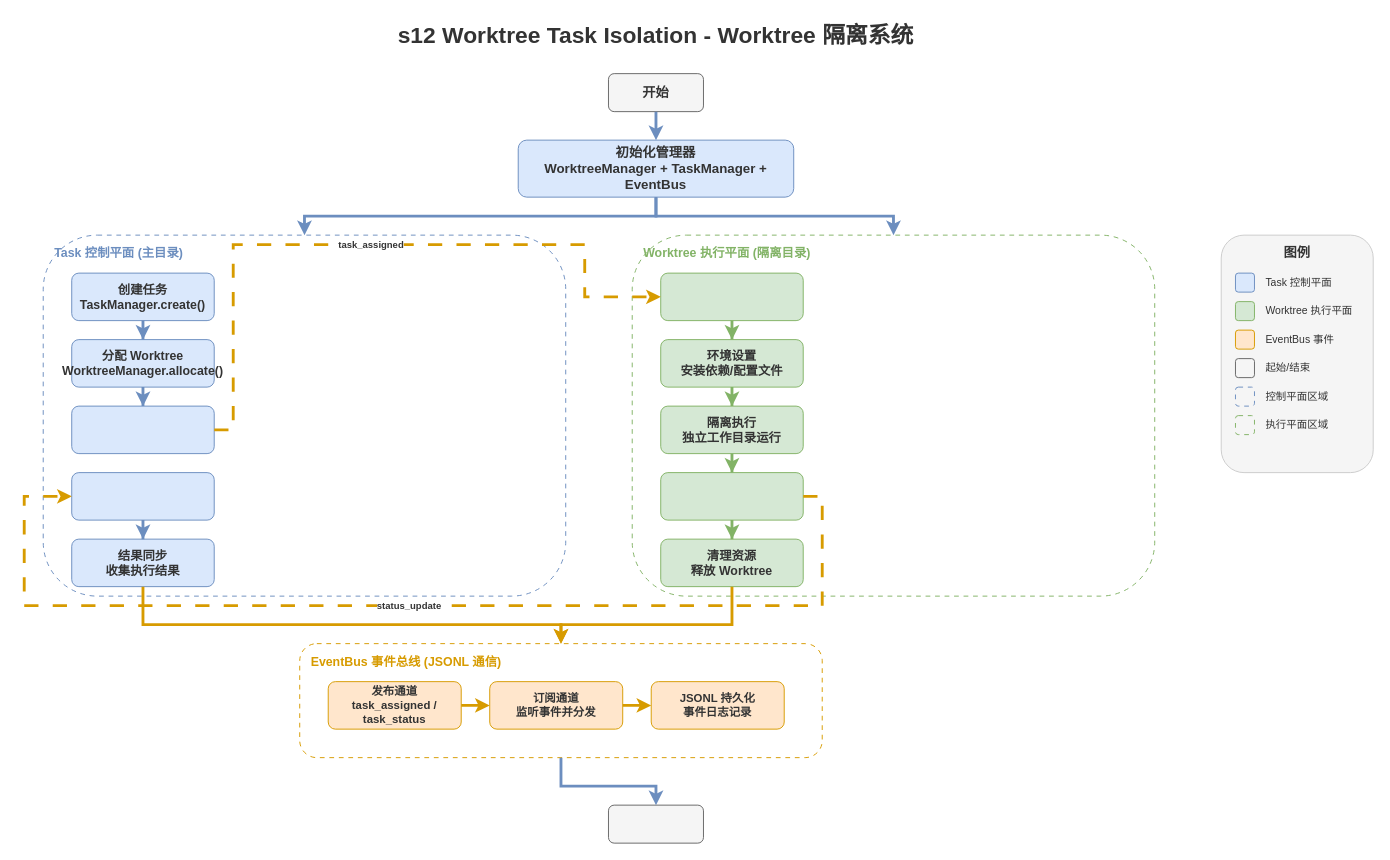
Some shapes in this 1390 by 860 pixel diagram are drawn without their labels. Here are the shapes that lost their labels. From the top down, the box of each, then its label:
(660, 272, 803, 321): 接收任务 EventBus.subscribe()
(71, 405, 214, 454): 发布事件 EventBus.publish(task_assigned)
(71, 472, 214, 520): 状态监控 轮询检查任务状态
(660, 472, 803, 520): 状态上报 EventBus.publish(status)
(608, 804, 703, 843): 结束
